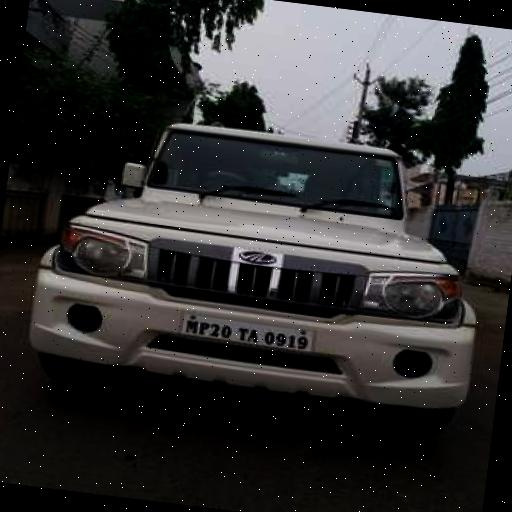license_plate`: (178, 314, 311, 350)
